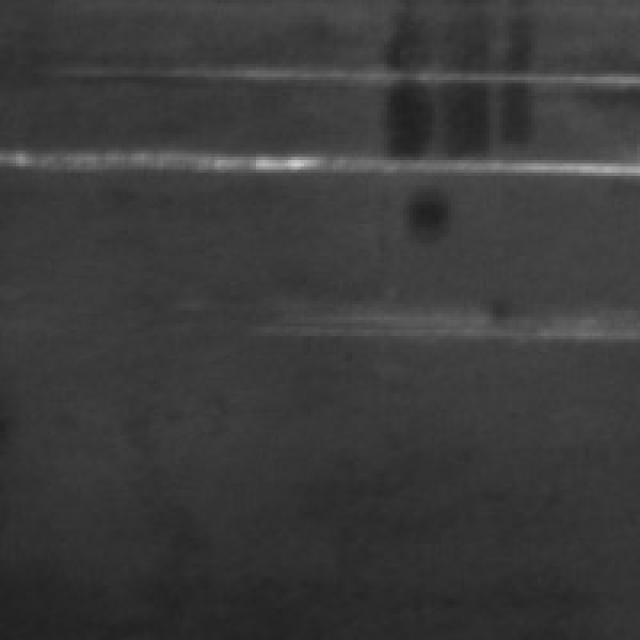inclusion: (374, 6, 554, 176)
scratches: (3, 131, 634, 192), (74, 48, 636, 106), (266, 278, 624, 352)
